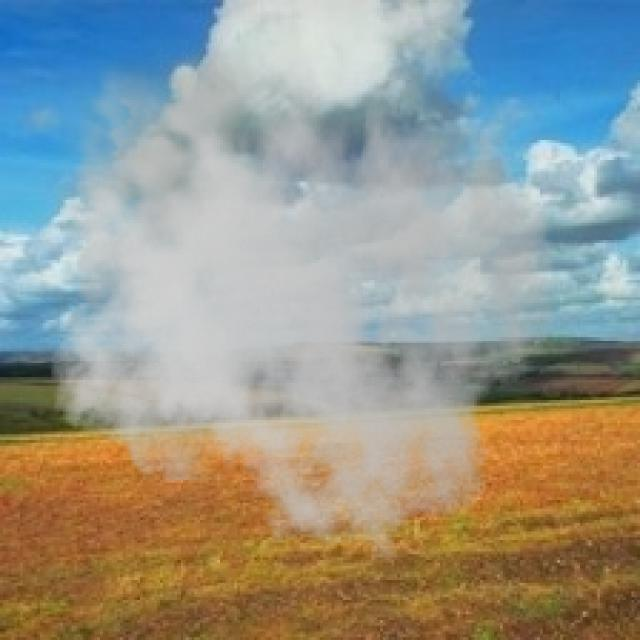smoke: (34, 31, 557, 563)
